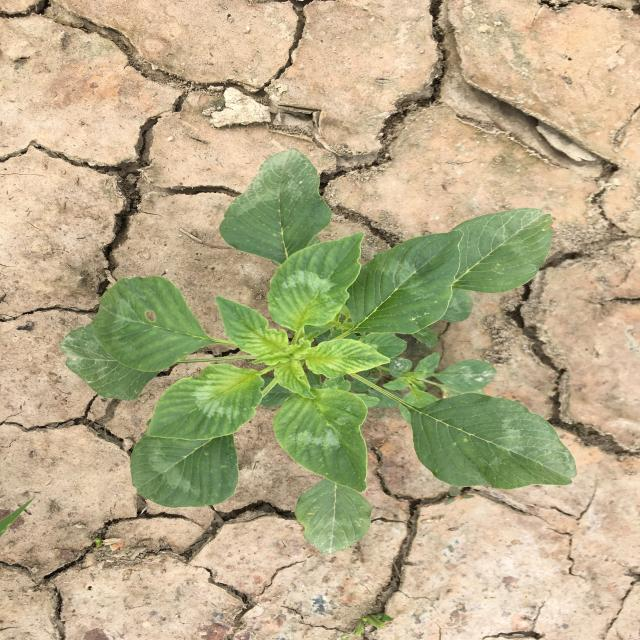PalmerAmaranth: (60, 148, 577, 556)
